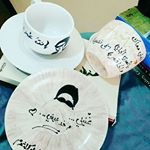cups: (20, 1, 76, 58)
